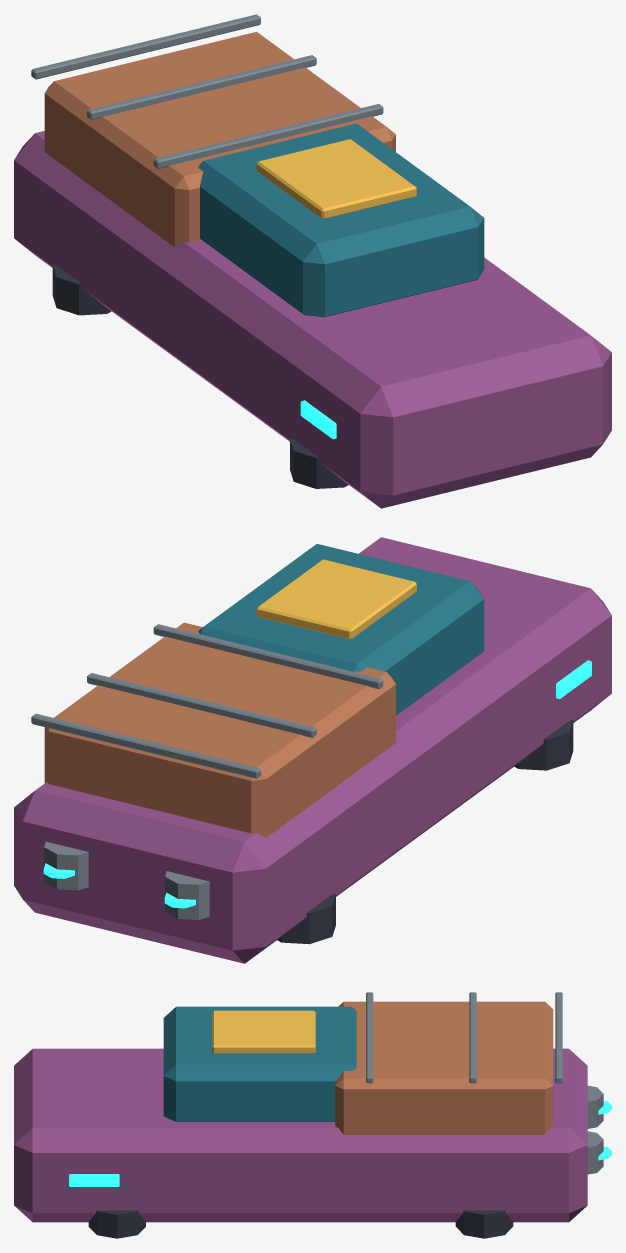
Rendered from vehicles_018_seed11.glb.
3 renders of one model, top to bottom at view 1: azimuth 30°, elevation 25°; view 2: azimuth 150°, elevation 25°; view 3: azimuth 270°, elevation 25°, orthographic. The views are drawn at different scales.
Visible parts, largest first — view 1: vehicles_018_seed11; view 2: vehicles_018_seed11; view 3: vehicles_018_seed11.
Part boxes in pixels (bbox=[...]): vehicles_018_seed11: bbox=[14, 14, 611, 508]; vehicles_018_seed11: bbox=[14, 537, 611, 963]; vehicles_018_seed11: bbox=[14, 992, 611, 1238].
Size of the model in its own units: 2.06 by 1.49 by 4.99.
